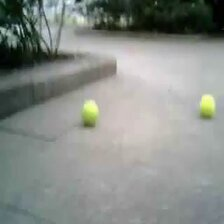tennis: (82, 100, 99, 125), (197, 95, 216, 115)
